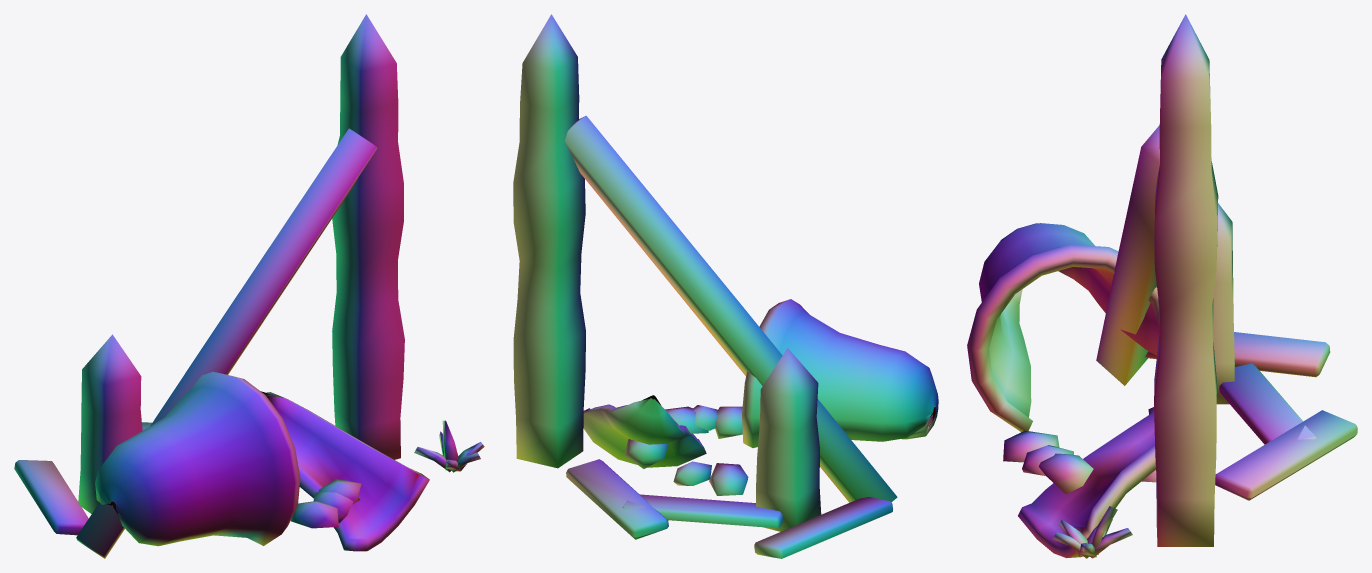
The model's file is SM_Prop_March_BrokenBelfry.fbx.
3 renders of one model, left to right at view 1: azimuth 30°, elevation 25°; view 2: azimuth 150°, elevation 25°; view 3: azimuth 270°, elevation 25°, orthographic. The views are drawn at different scales.
Parts seen in each view (by area): view 1: SM_Prop_March_BrokenBelfry; view 2: SM_Prop_March_BrokenBelfry; view 3: SM_Prop_March_BrokenBelfry.
Boxes of the visible parts, x1,y1,x2,y2 form: SM_Prop_March_BrokenBelfry: [14, 14, 484, 558]; SM_Prop_March_BrokenBelfry: [513, 14, 938, 558]; SM_Prop_March_BrokenBelfry: [967, 14, 1357, 558].
Size of the model in its own units: 2.08 by 2.37 by 1.49.
